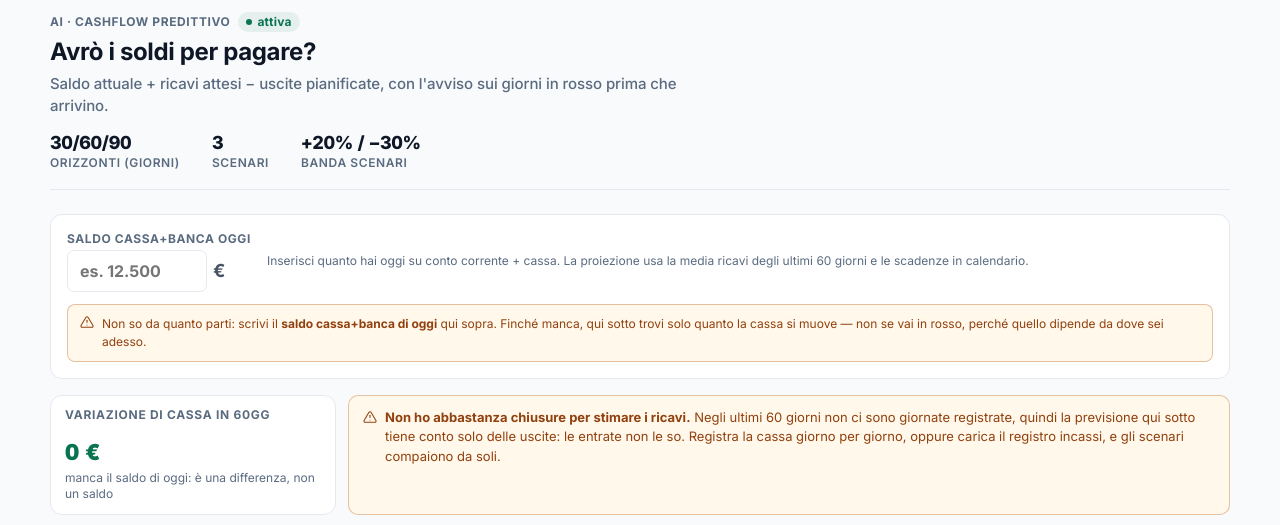
Test: il campo del saldo legge all'italiana › il saldo letto all'italiana arriva fino al numero grande della pagina
Type "12.500" into the field labelled "Saldo cassa+banca oggi" at (137, 271), box [67,250,207,292]
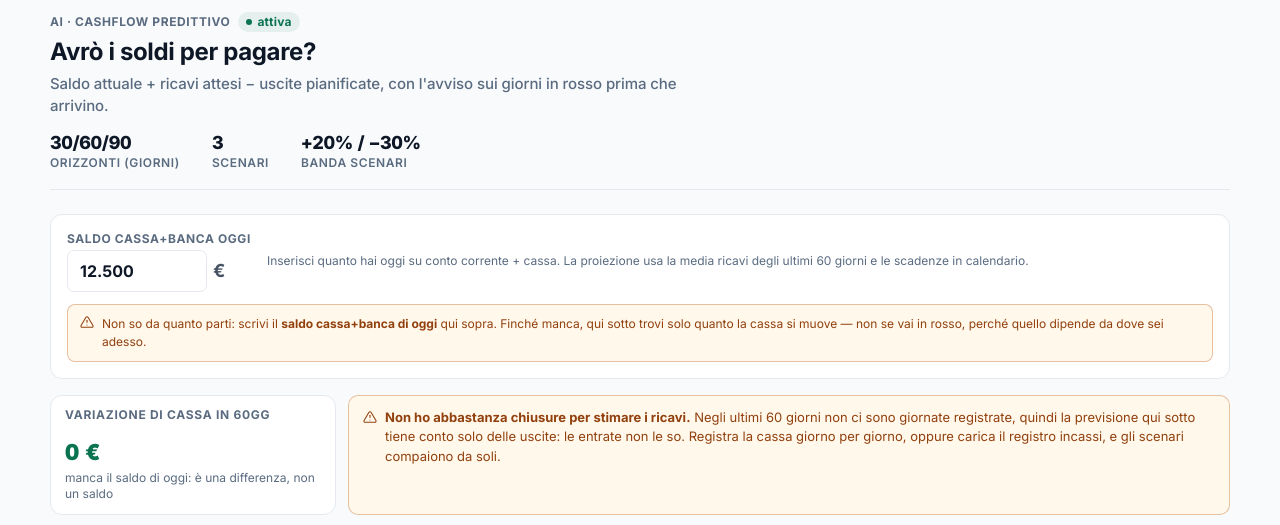
Leave the field labelled "Saldo cassa+banca oggi", box [67,250,207,292]
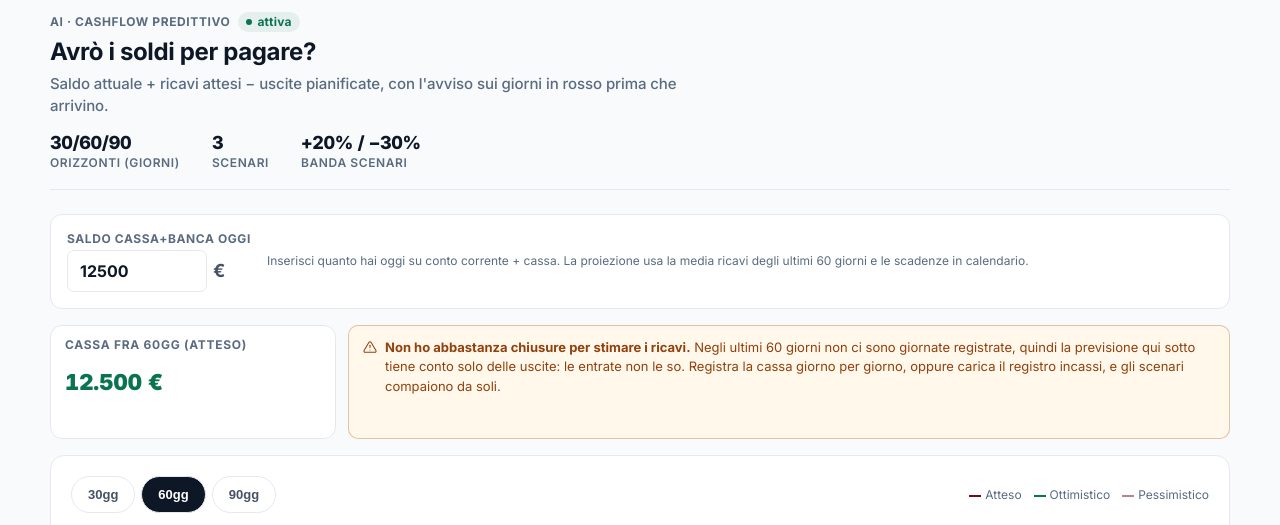
Result: the text "12.500 €" is shown at [65,369,163,395]
